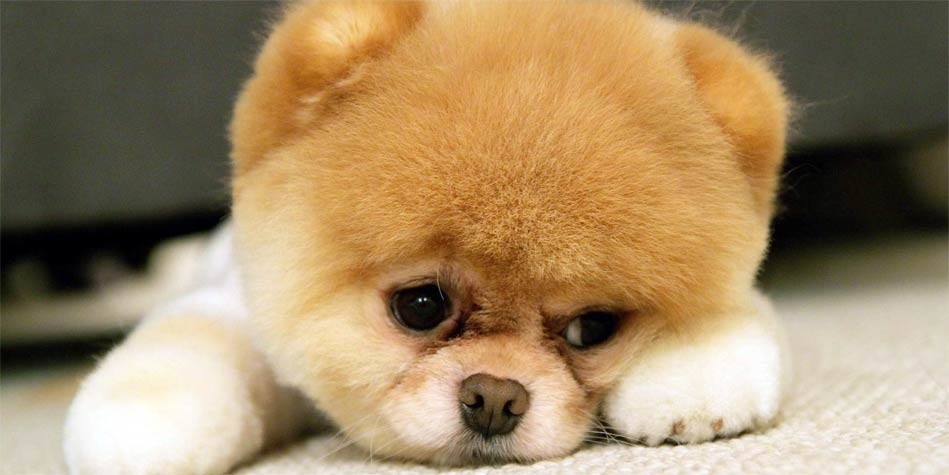pomeranian: (149, 1, 805, 475)
